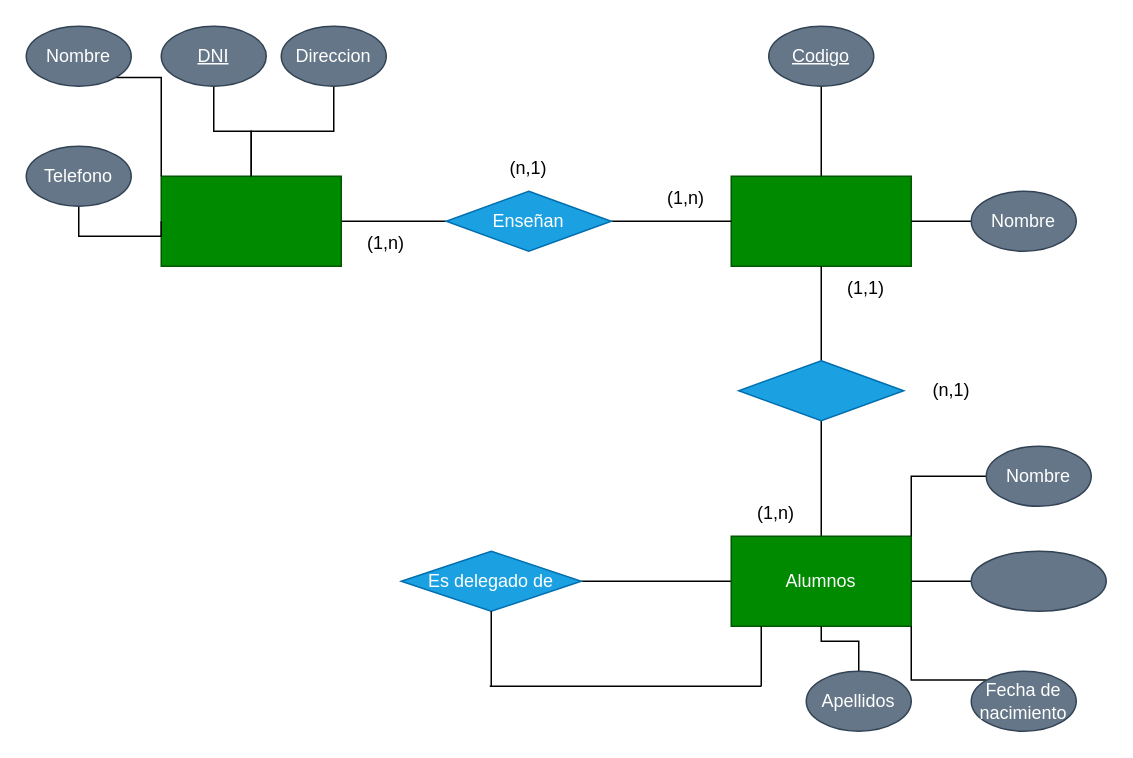
Some shapes in this 1133 by 758 pixel diagram are drawn without their labels. Each missing label, with the box of its shape:
Inscritos: (737, 359, 904, 421)
Modulos: (730, 175, 911, 266)
Nº.Expediente: (970, 550, 1106, 611)
Profesores: (160, 175, 341, 266)
